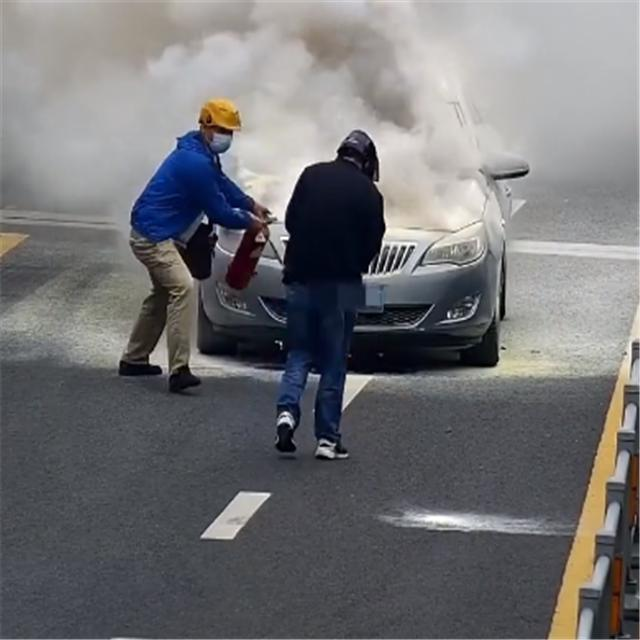Smoke: (5, 0, 488, 103), (380, 102, 483, 228)
